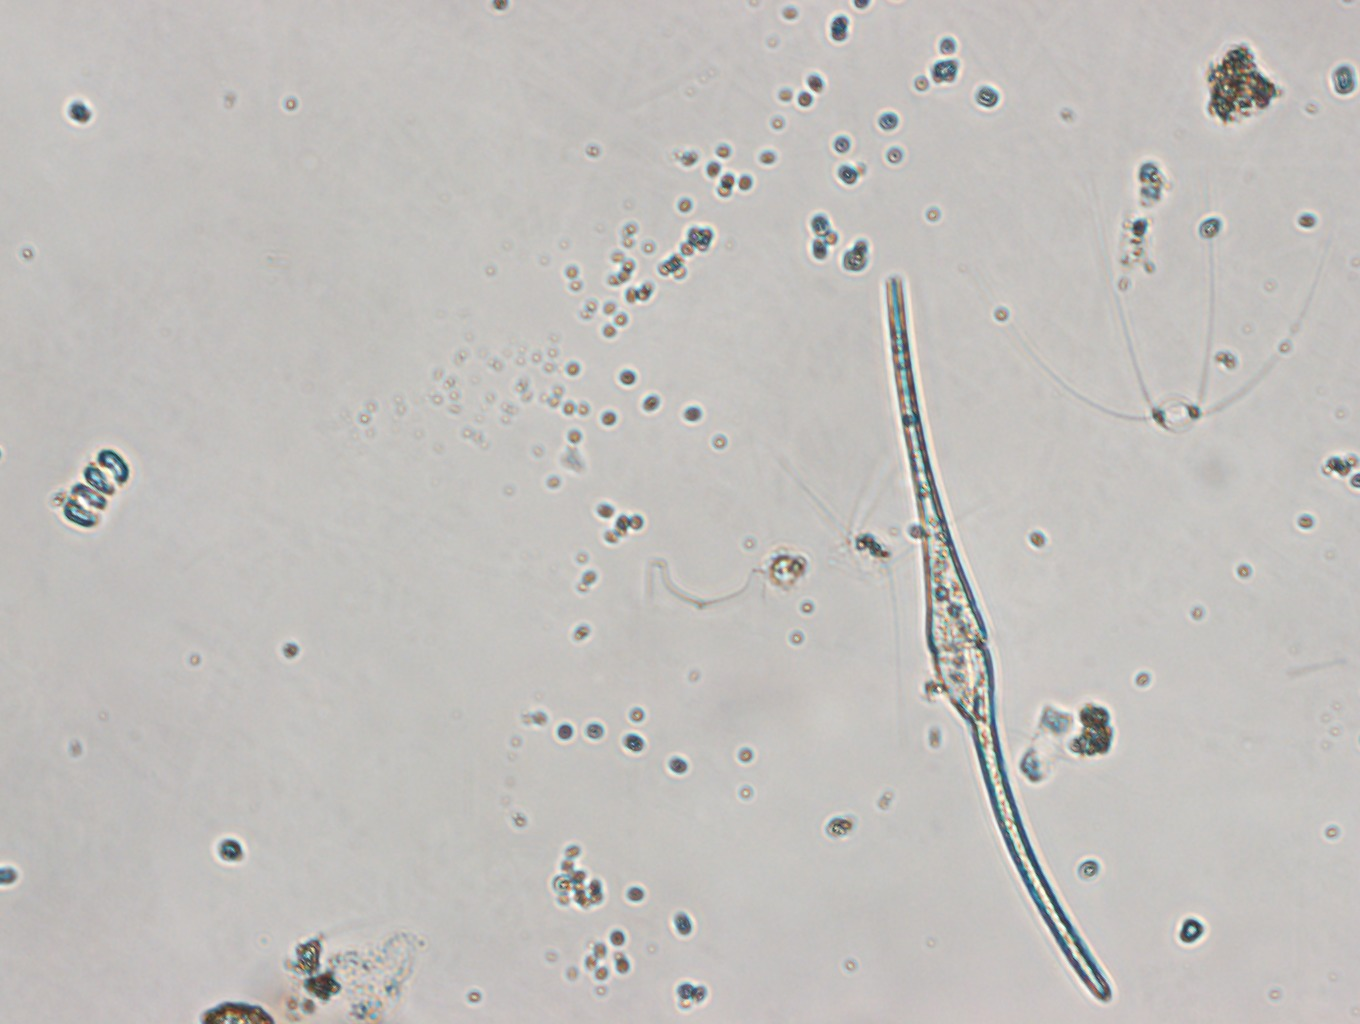ceratium fusus: (882, 275, 1117, 1005)
chaetoceros: (1005, 175, 1336, 436)
skeletonema: (59, 443, 133, 529)
